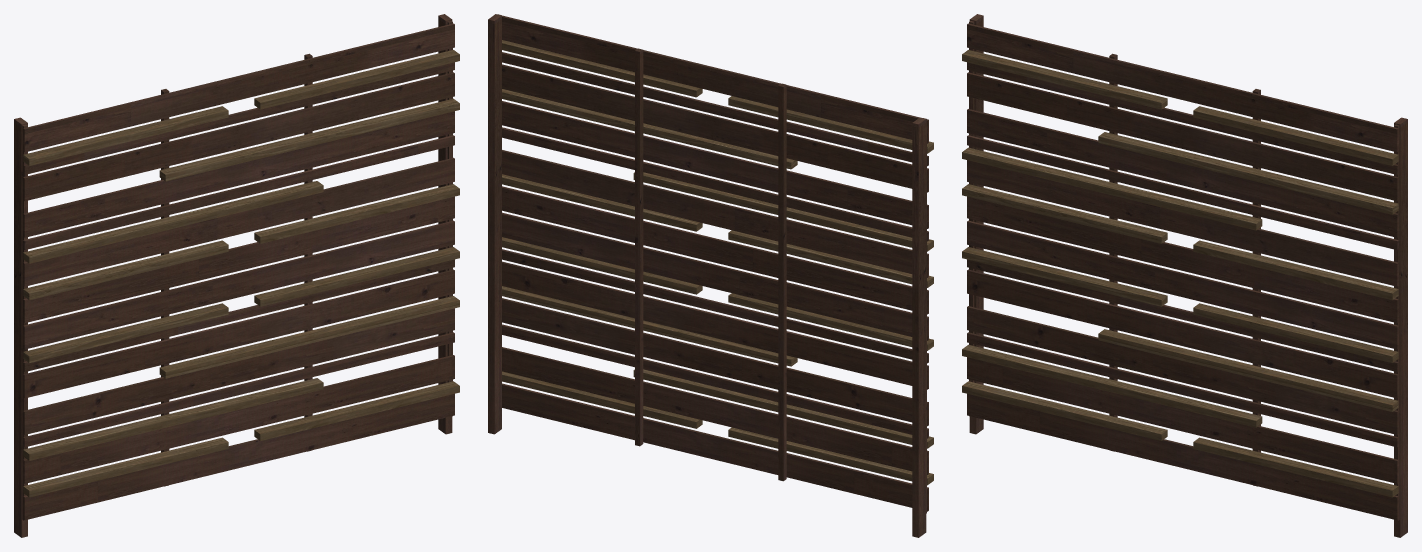
Rendered from EAdesignunitrandom_h1835-w1999_darkpine.fbx.
The picture shows the model from 3 angles, left to right: view 1: azimuth 30°, elevation 25°; view 2: azimuth 150°, elevation 25°; view 3: azimuth 330°, elevation 25°; orthographic projection.
Visible parts, largest first — view 1: EAdesignunitrandom_h1835-w1999_darkpine; view 2: EAdesignunitrandom_h1835-w1999_darkpine; view 3: EAdesignunitrandom_h1835-w1999_darkpine.
Boxes of the visible parts, x1,y1,x2,y2 form: EAdesignunitrandom_h1835-w1999_darkpine: (14, 14, 459, 537); EAdesignunitrandom_h1835-w1999_darkpine: (488, 14, 933, 537); EAdesignunitrandom_h1835-w1999_darkpine: (962, 14, 1407, 537).
Size of the model in its own units: 200 by 183 by 12.2.
2 materials, 2 textured.
